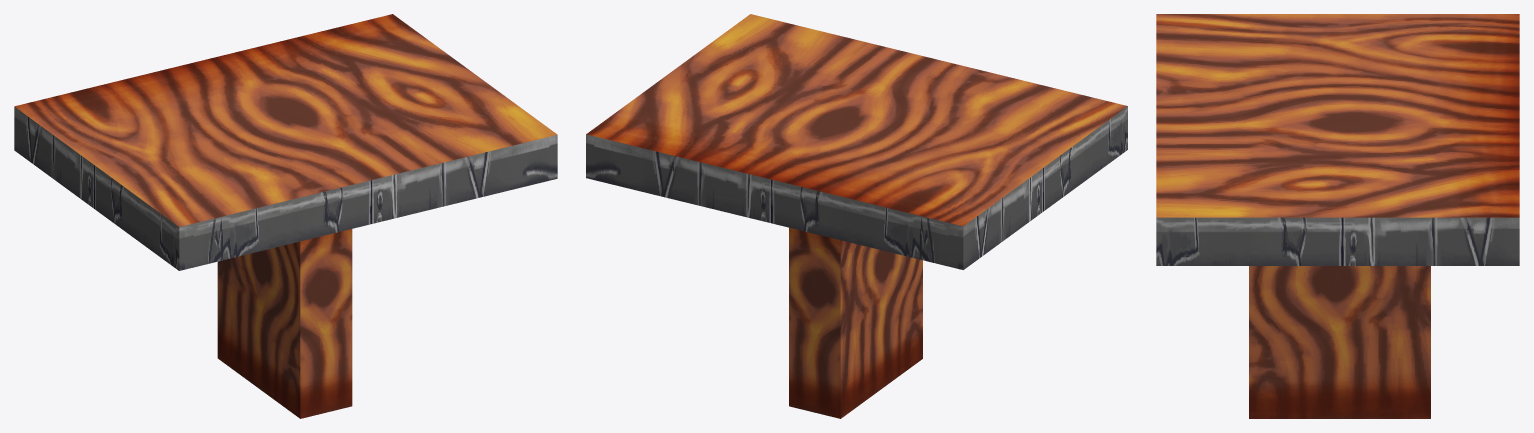
The model's file is MesaRetangular.fbx.
The picture shows the model from 3 angles, left to right: view 1: azimuth 30°, elevation 25°; view 2: azimuth 150°, elevation 25°; view 3: azimuth 270°, elevation 25°; orthographic projection. The views are drawn at different scales.
Visible parts, largest first — view 1: MesaRetangular; view 2: MesaRetangular; view 3: MesaRetangular.
Part boxes in pixels (left/top/right/bottom): MesaRetangular: left=14, top=14, right=557, bottom=418; MesaRetangular: left=586, top=14, right=1127, bottom=418; MesaRetangular: left=1156, top=14, right=1519, bottom=418.
Size of the model in its own units: 116 by 76.62 by 87.27.
